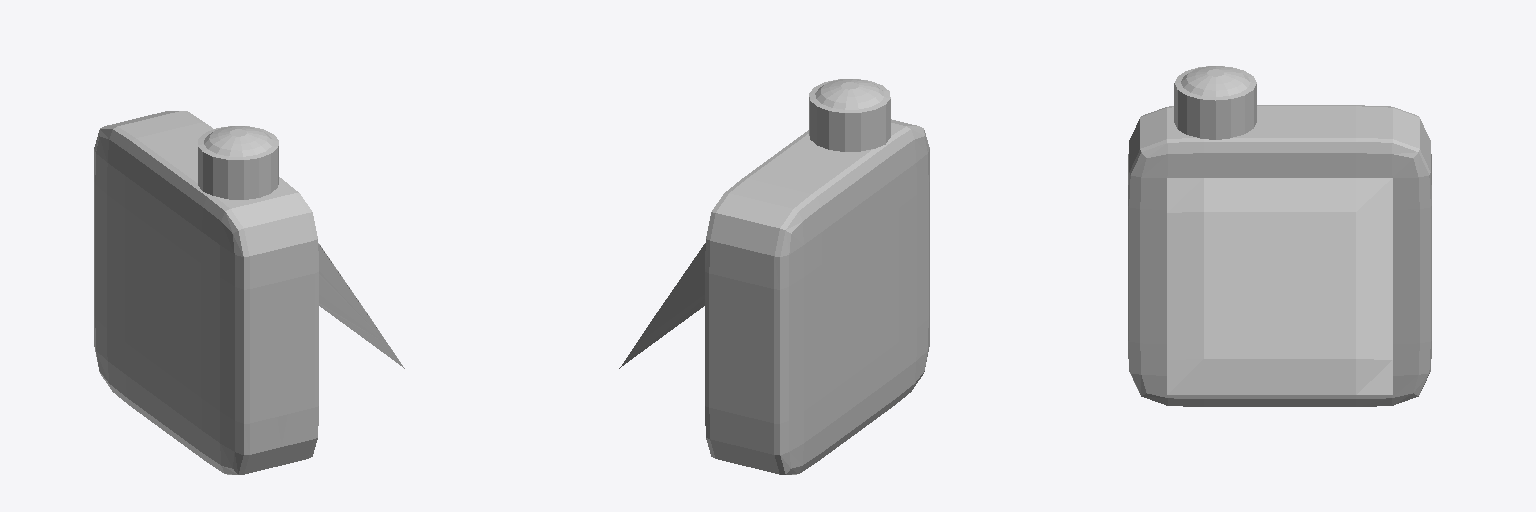
Rendered from camcord.obj.
3 views of the same model, side by side, from view 1: azimuth 30°, elevation 25°; view 2: azimuth 150°, elevation 25°; view 3: azimuth 270°, elevation 25° (orthographic).
Parts seen in each view (by area): view 1: camera_Circle.001; view 2: camera_Circle.001; view 3: camera_Circle.001.
Boxes of the visible parts, <box> form: camera_Circle.001: <box>94,111,404,474</box>; camera_Circle.001: <box>619,79,929,474</box>; camera_Circle.001: <box>1128,66,1431,406</box>.
Bounding box in the file's own units: 0.2987 × 0.4893 × 0.4259.